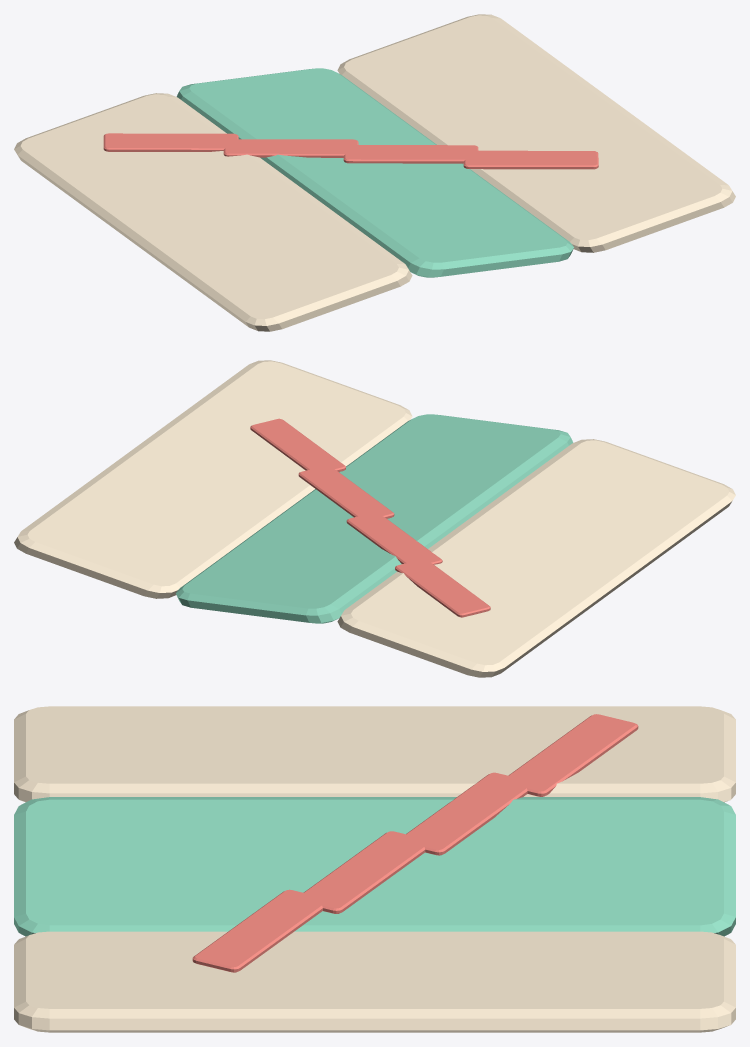
Rendered from road_map_folded.glb.
3 views of the same model, one above another, from view 1: azimuth 30°, elevation 25°; view 2: azimuth 150°, elevation 25°; view 3: azimuth 270°, elevation 25° (orthographic). The views are drawn at different scales.
Visible parts, largest first — view 1: model; view 2: model; view 3: model.
Part boxes in pixels (x1=…): model: x1=14, y1=14, x2=735, y2=331; model: x1=14, y1=360, x2=735, y2=677; model: x1=14, y1=706, x2=735, y2=1032.
Bounding box in the file's own units: 0.5 × 0.03 × 0.45.
